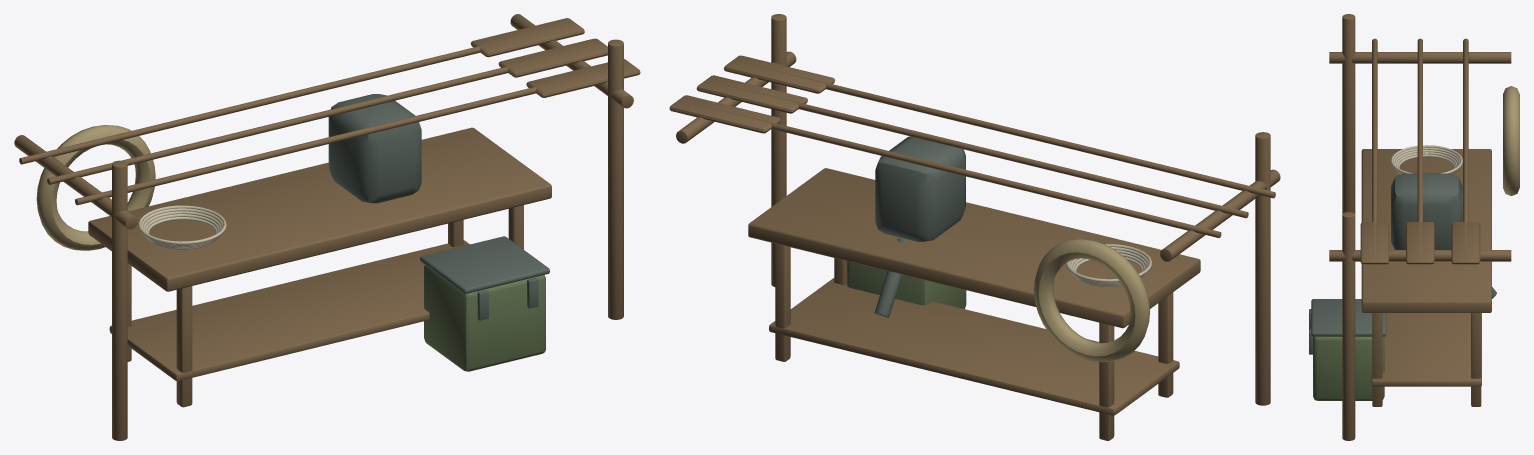
Rendered from BoatRepair08.fbx.
3 views of the same model, side by side, from view 1: azimuth 30°, elevation 25°; view 2: azimuth 150°, elevation 25°; view 3: azimuth 270°, elevation 25° (orthographic). The views are drawn at different scales.
Visible parts, largest first — view 1: BoatRepair08; view 2: BoatRepair08; view 3: BoatRepair08.
Part boxes in pixels (x1,y1,x2,y2): BoatRepair08: (14,14,640,440); BoatRepair08: (669,14,1280,440); BoatRepair08: (1309,14,1519,440).
Size of the model in its own units: 404 by 162 by 190.
